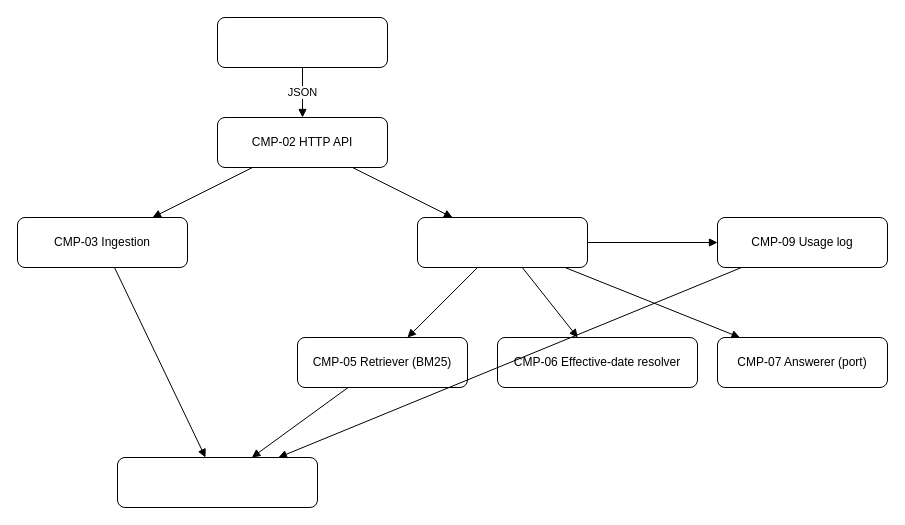
Image size: 905x525. Some labels were removed from this diagram. The shapes that lost their labels are listed below. From the top down, each one's box as (x1, y1, x2, y2) in pixels, then its label:
(216, 16, 388, 68): CMP-01 Web UI
(416, 216, 588, 268): CMP-08 Ask service
(116, 456, 318, 508): CMP-04 Store (SQLite)
